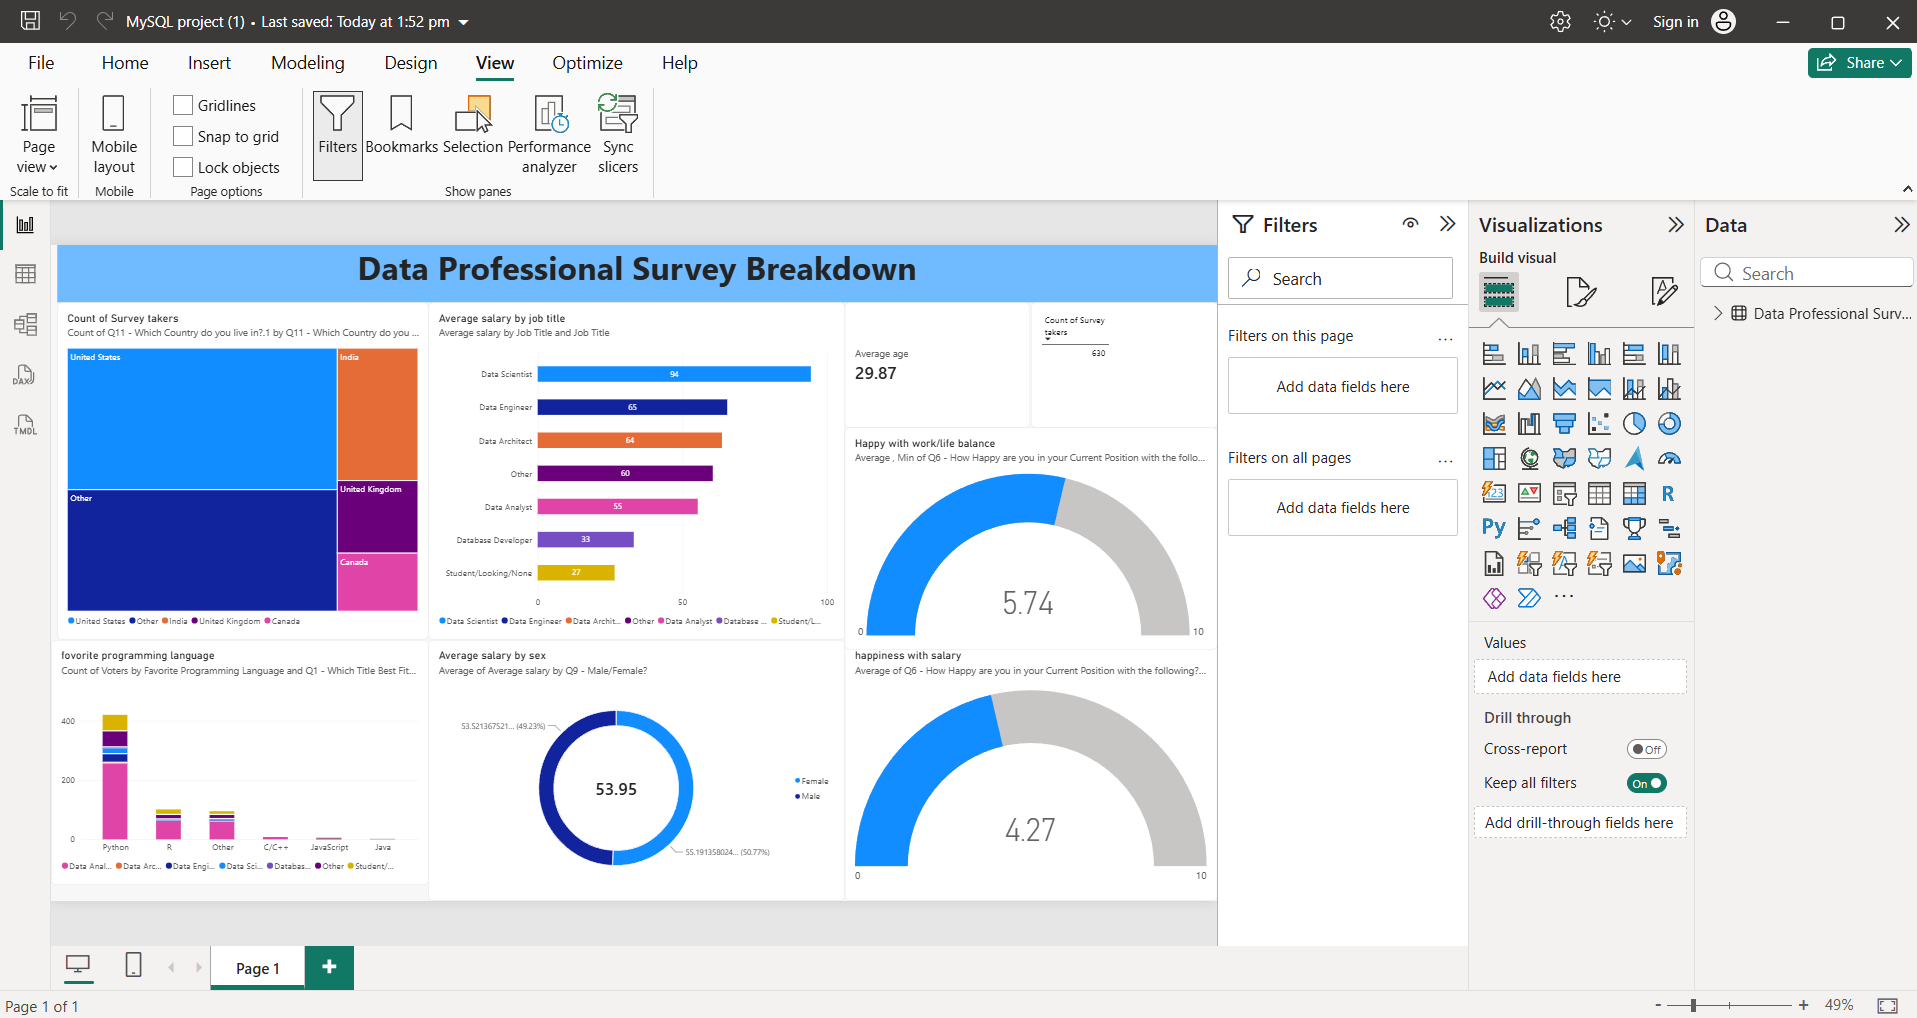

The dashboard page shown, as its layout file describes it:
{"tool":"powerbi","page":{"name":"Page 1","canvas":[1920,1080],"ordinal":0},"visuals":[{"type":"textbox","box":[10.3,0,1910.1,94.7],"z":0},{"type":"tableEx","fields":{"Values":["Data Professional Survey.Unique ID"]},"box":[1612.7,95,307.7,206.5],"z":2},{"type":"cardVisual","fields":{"Data":["Avg(Data Professional Survey.Q10 - Current Age)"]},"box":[1307.1,95,305.6,206.5],"z":3},{"type":"barChart","title":"Average salary by job title","fields":{"Category":["Data Professional Survey.Q1 - Which Title Best Fits your Current Role?.1"],"Series":["Data Professional Survey.Q1 - Which Title Best Fits your Current Role?.1"],"Y":["Avg(Data Professional Survey.Average salary)"]},"box":[621.6,95,685.6,555.5],"z":4},{"type":"columnChart","title":"fovorite programming language","fields":{"Category":["Data Professional Survey.Q5 - Favorite Programming Language.1"],"Series":["Data Professional Survey.Q1 - Which Title Best Fits your Current Role?.1"],"Y":["CountNonNull(Data Professional Survey.Unique ID)"]},"box":[0,650.4,621.6,403.4],"z":5},{"type":"treemap","title":"Count of Survey takers ","fields":{"Group":["Data Professional Survey.Q11 - Which Country do you live in?.1"],"Values":["CountNonNull(Data Professional Survey.Q11 - Which Country do you live in?.1)"]},"box":[10.3,95,611.2,555.5],"z":6},{"type":"gauge","title":"happiness with salary","fields":{"MaxValue":["Max(Data Professional Survey.Q6 - How Happy are you in your Current Position with the following? (Salary))1"],"MinValue":["Min(Data Professional Survey.Q6 - How Happy are you in your Current Position with the following? (Salary))"],"Y":["Avg(Data Professional Survey.Q6 - How Happy are you in your Current Position with the following? (Salary))"]},"box":[1307.1,650.5,613.3,429.5],"z":7},{"type":"gauge","title":"Happy with work/life balance","fields":{"MaxValue":["Max(Data Professional Survey.Q6 - How Happy are you in your Current Position with the following? (Work/Life Balance))1"],"MinValue":["Min(Data Professional Survey.Q6 - How Happy are you in your Current Position with the following? (Work/Life Balance))"],"Y":["Avg(Data Professional Survey.Q6 - How Happy are you in your Current Position with the following? (Work/Life Balance))"]},"box":[1307.1,301.5,613.3,365.5],"z":8},{"type":"donutChart","title":" Average salary by sex","fields":{"Category":["Data Professional Survey.Q9 - Male/Female?"],"Y":["Avg(Data Professional Survey.Average salary)"]},"box":[621.6,650.5,685.6,429.5],"z":9}]}

Visuals, with their boxes on the page's 1920x1080 design canvas (x1, y1, x2, y2). These are canvas units, not pixel positions in the 1917x1018 screenshot, which may show the page scaled, cropped or inside an application window:
textbox: [left=10, top=0, right=1920, bottom=95]
tableEx - Data Professional Survey.Unique ID: [left=1613, top=95, right=1920, bottom=302]
cardVisual - Avg(Data Professional Survey.Q10 - Current Age): [left=1307, top=95, right=1613, bottom=302]
"Average salary by job title" barChart: [left=622, top=95, right=1307, bottom=650]
"fovorite programming language" columnChart: [left=0, top=650, right=622, bottom=1054]
"Count of Survey takers " treemap: [left=10, top=95, right=622, bottom=650]
"happiness with salary" gauge: [left=1307, top=650, right=1920, bottom=1080]
"Happy with work/life balance" gauge: [left=1307, top=302, right=1920, bottom=667]
" Average salary by sex" donutChart: [left=622, top=650, right=1307, bottom=1080]
